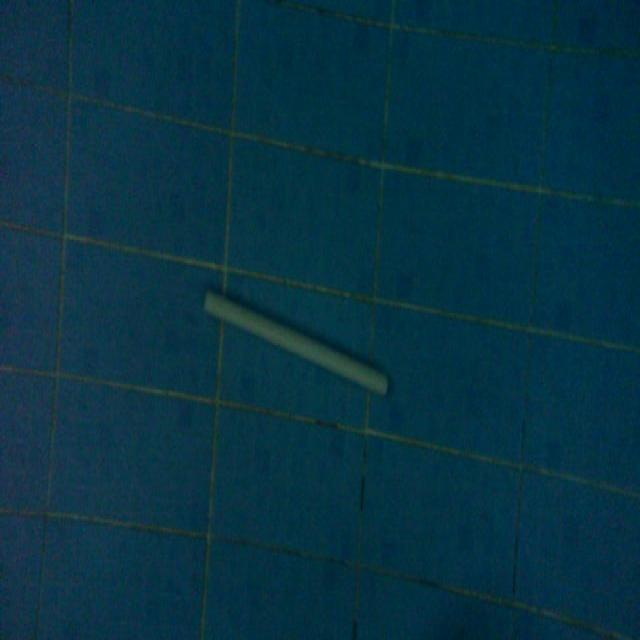Cube: (201, 281, 390, 402)
